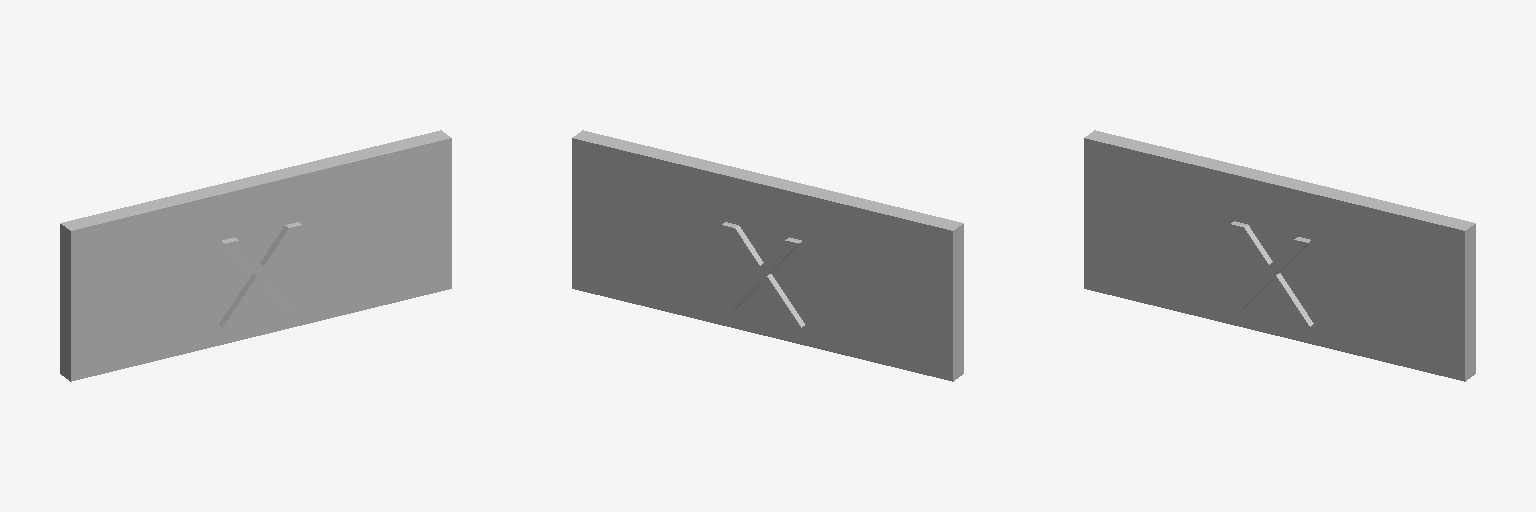
The picture shows the model from 3 angles: view 1: azimuth 30°, elevation 25°; view 2: azimuth 150°, elevation 25°; view 3: azimuth 330°, elevation 25°; orthographic projection.
Visible parts, largest first — view 1: 立方体_立方体.003, Text; view 2: 立方体_立方体.003, Text; view 3: 立方体_立方体.003, Text.
Boxes of the visible parts, box(x1,y1,x2,y2) form: 立方体_立方体.003: box(60, 130, 451, 381); Text: box(219, 222, 304, 327); 立方体_立方体.003: box(572, 130, 963, 381); Text: box(719, 222, 804, 327); 立方体_立方体.003: box(1084, 130, 1475, 381); Text: box(1228, 221, 1313, 326).
Size of the model in its own units: 0.2398 by 0.0906 by 0.0206.